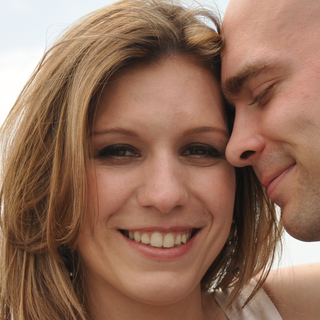eye: (91, 139, 149, 166), (173, 139, 225, 165)
